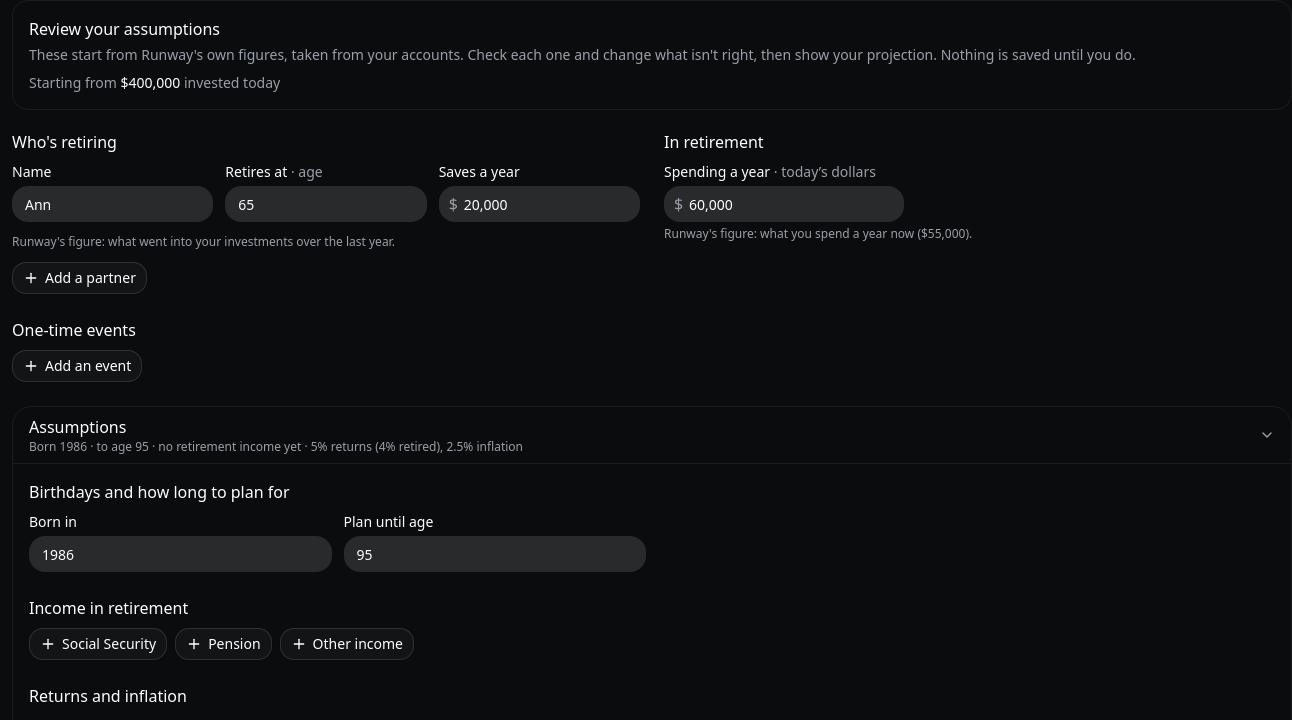
Test case: reviewing a default plan › asks for a birth year, a retirement age and an age to plan to when they're missing
Step 1. Clear the number field labelled "Born in" → (180, 554), box [29,536,332,572]
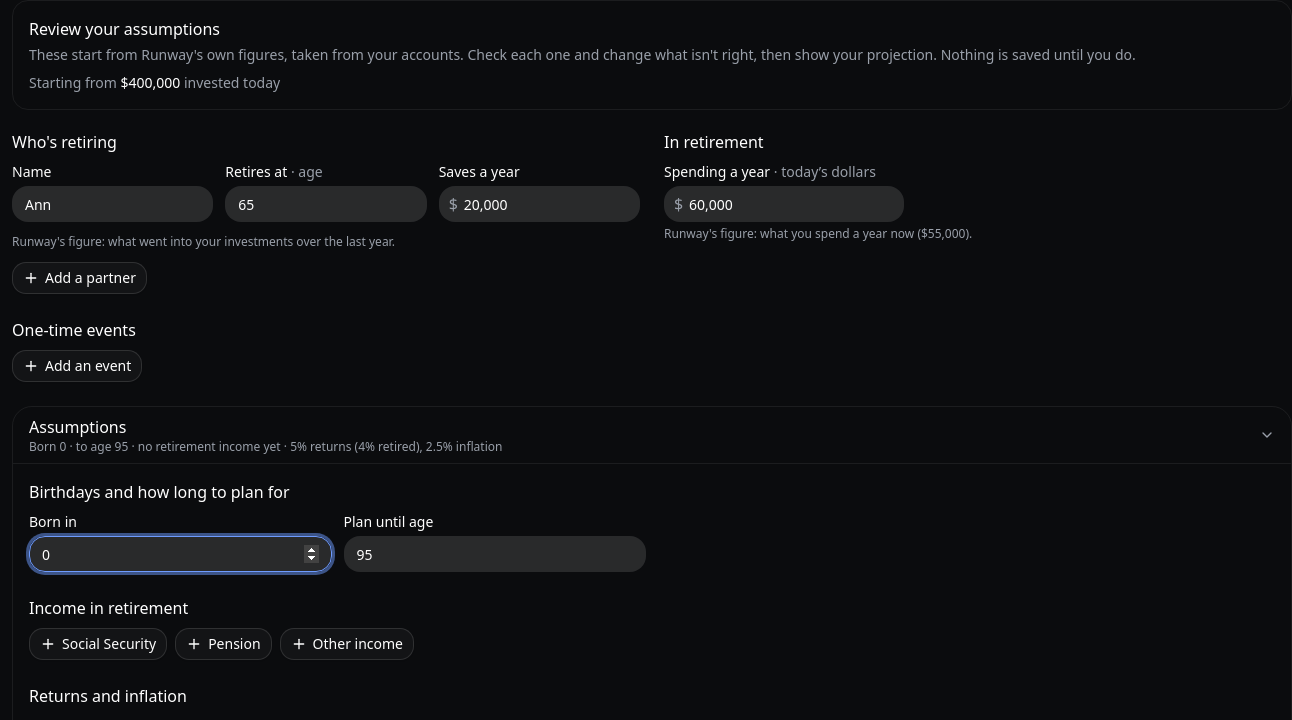
Step 2. Clear the number field labelled "Retires at · age" → (326, 204), box [225,186,427,222]
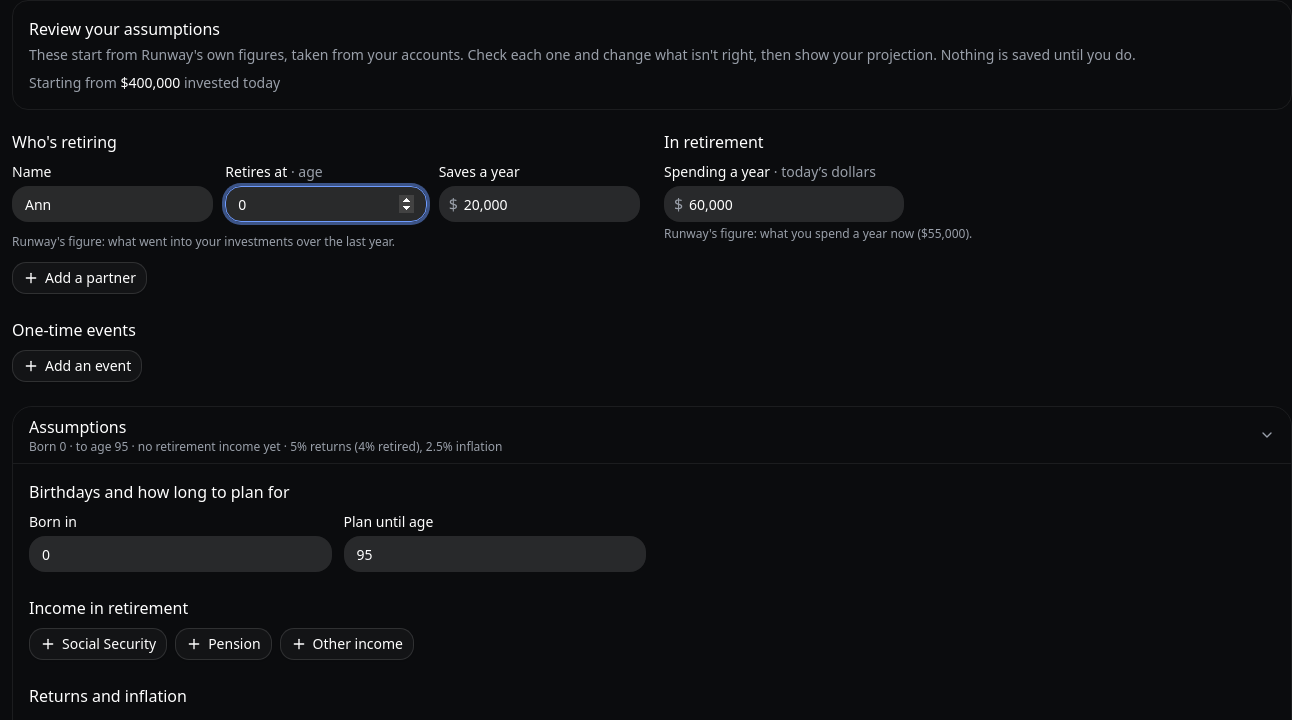
Step 3. Clear the number field labelled "Plan until age" → (495, 554), box [344,536,646,572]
(page scrolled)
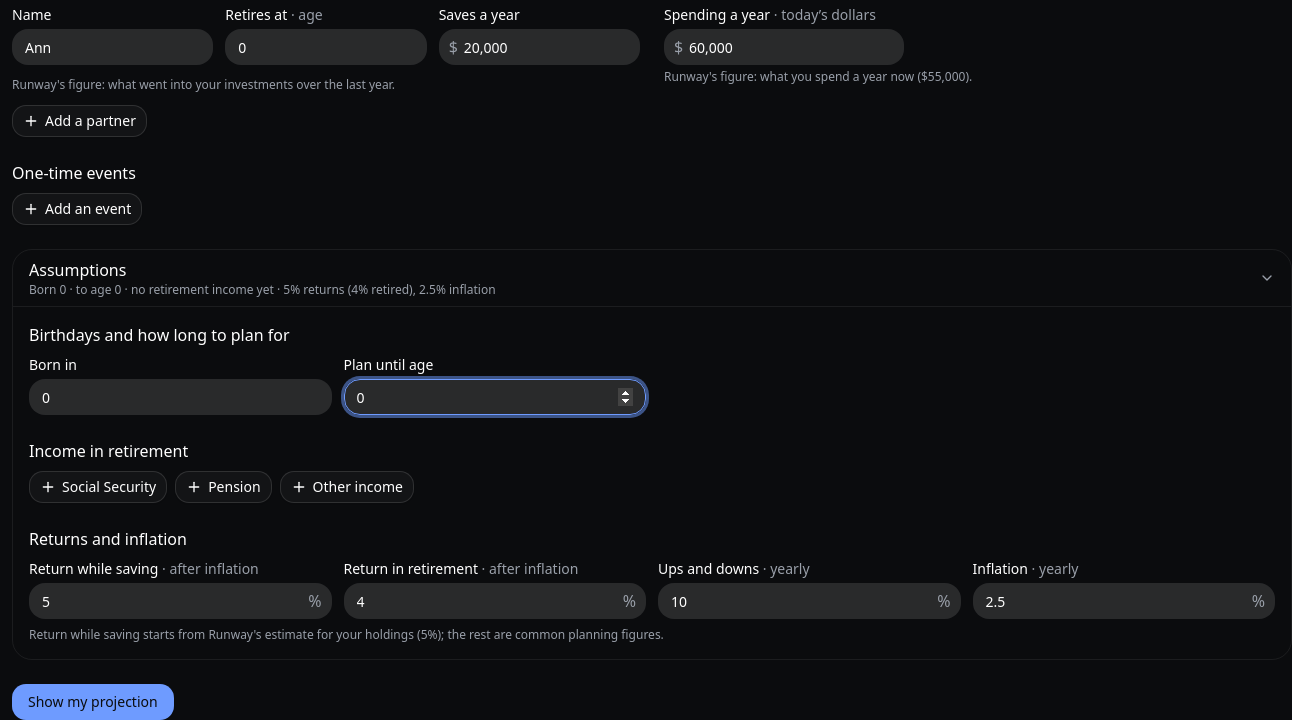
Step 4. Click the button "Show my projection" → (93, 702), box [12,684,174,719]
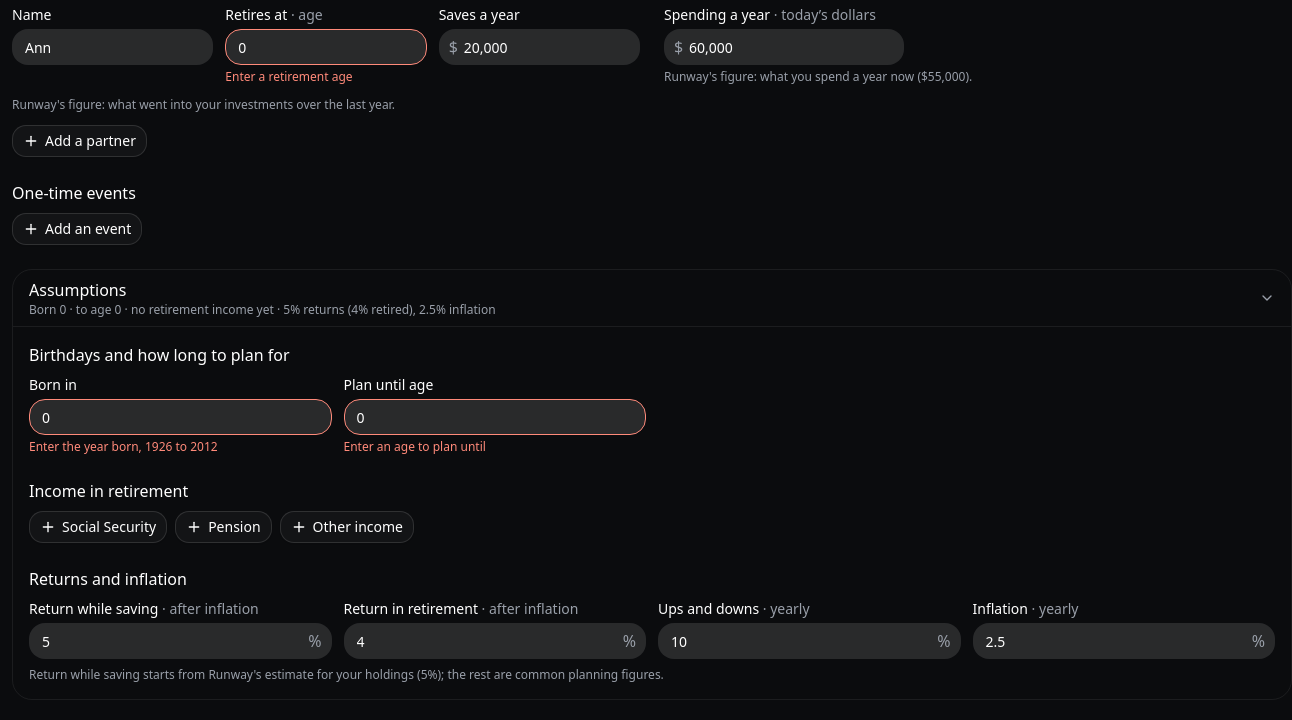
Check: the text "Enter the year born, 1926 to 2012" is shown, box [29,438,218,455]
Check: the text "Enter a retirement age" is shown, box [225,68,353,85]
Check: the text "Enter an age to plan until" is shown, box [344,438,486,455]
